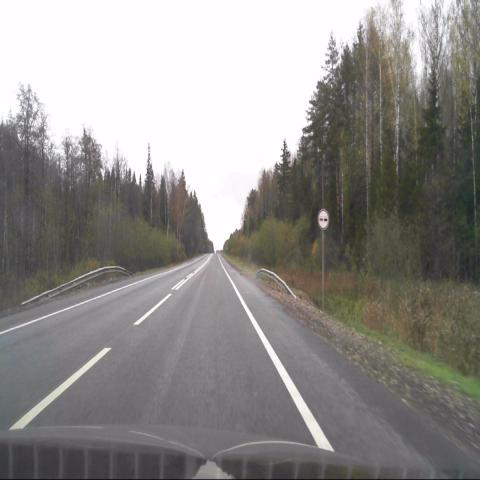3_20: (318, 209, 329, 230)
